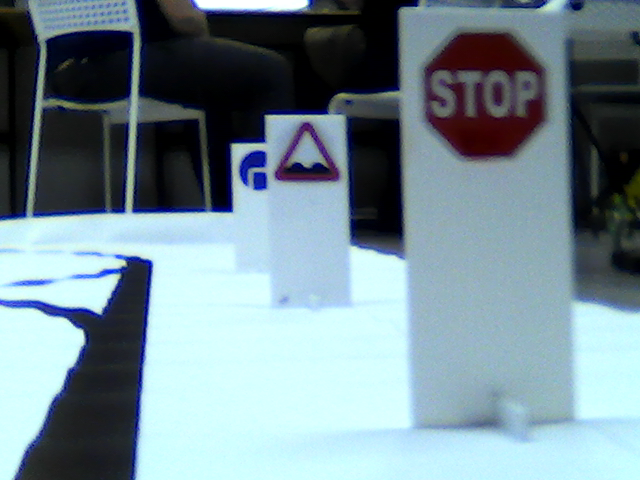Nerov: (273, 123, 340, 182)
Stop: (417, 27, 554, 166)
